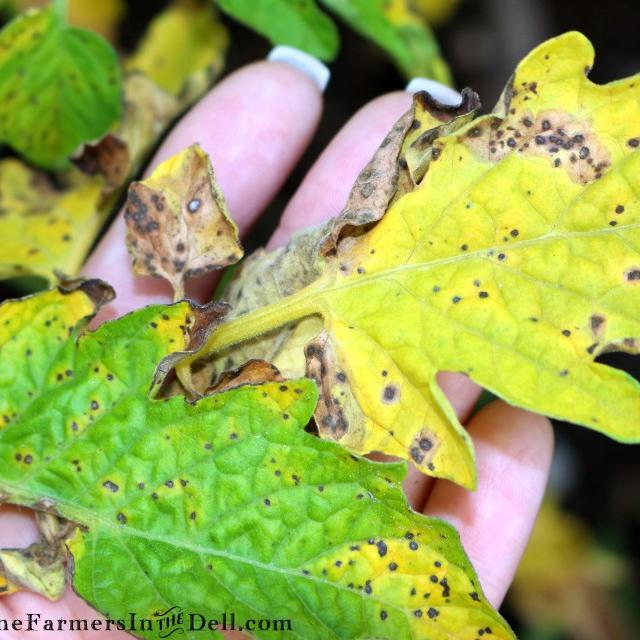Tomato Septoria leaf spot: (0, 311, 517, 640), (292, 42, 640, 451)
